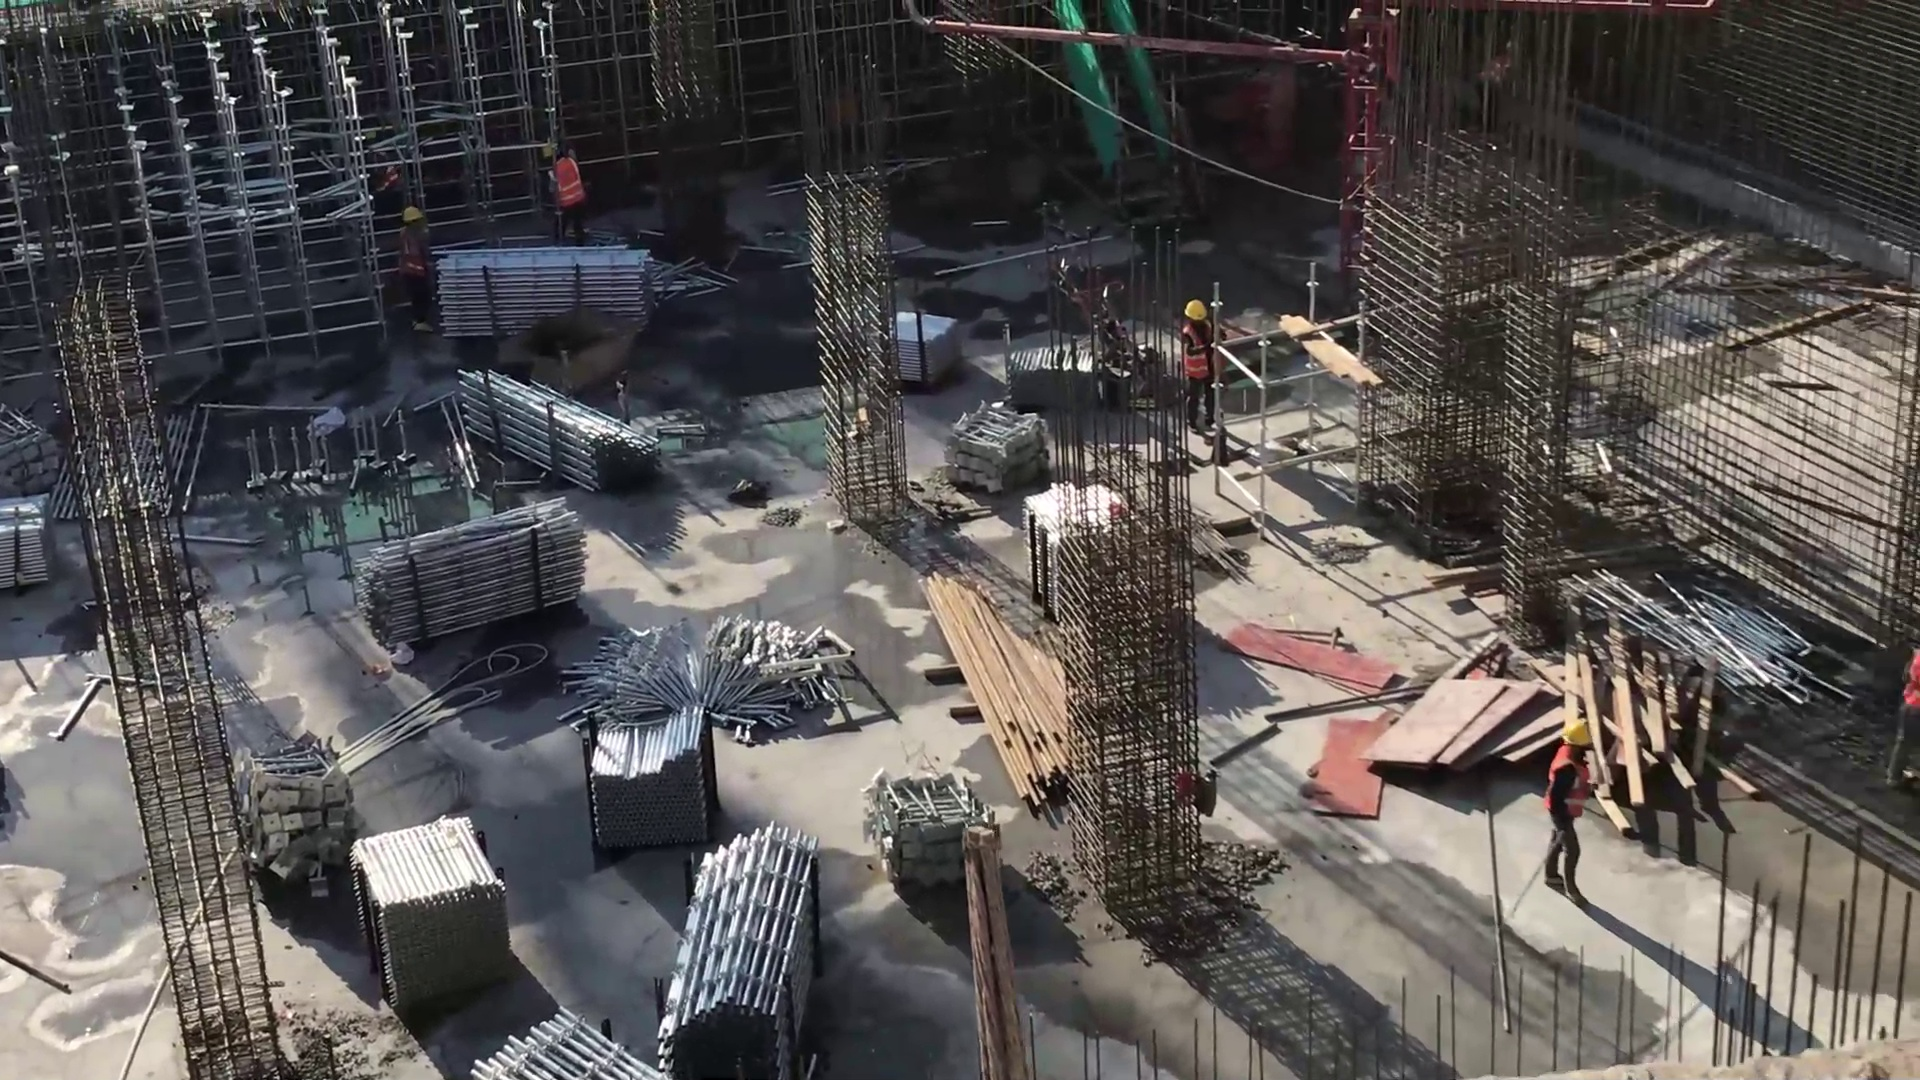board: (1373, 672, 1544, 772)
helmet: (1561, 722, 1591, 744), (1184, 302, 1210, 321), (402, 210, 426, 221)
person: (1542, 722, 1598, 899), (538, 139, 606, 261), (392, 203, 440, 330), (1181, 299, 1224, 431)
scaffold: (650, 847, 822, 1080), (366, 500, 586, 635), (347, 823, 506, 1003), (467, 366, 656, 489), (443, 242, 658, 335), (596, 708, 717, 838), (477, 1007, 643, 1080), (1019, 486, 1068, 607), (897, 306, 961, 382), (1, 498, 46, 590)
vest: (1552, 748, 1591, 826), (552, 158, 585, 209)
wood: (928, 569, 1071, 797), (1569, 647, 1729, 819)
